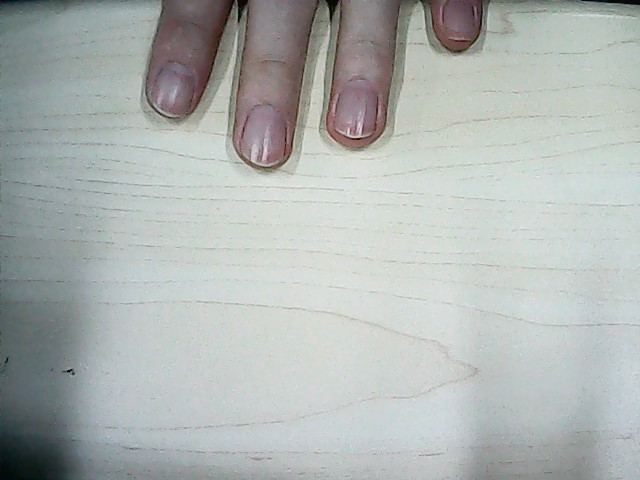nail: (236, 98, 287, 170), (327, 74, 380, 138), (147, 58, 197, 116), (438, 1, 481, 43)
